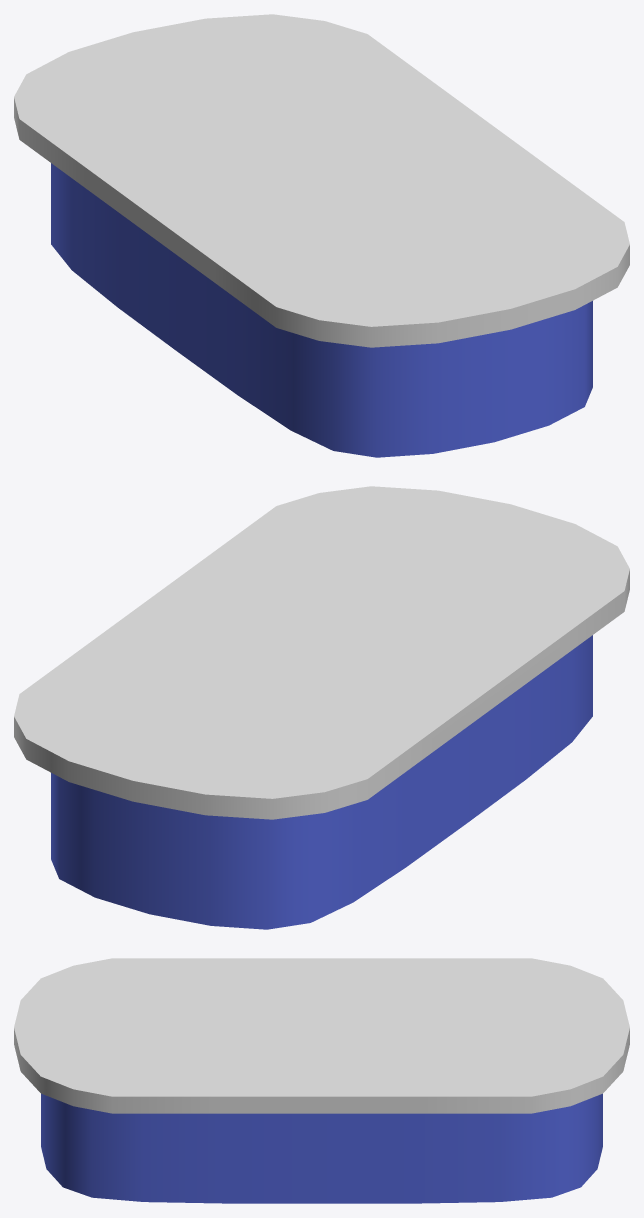
Rendered from model_tableLong_01.fbx.
3 views of the same model, one above another, from view 1: azimuth 30°, elevation 25°; view 2: azimuth 150°, elevation 25°; view 3: azimuth 270°, elevation 25° (orthographic). The views are drawn at different scales.
Visible parts, largest first — view 1: Cube.013; view 2: Cube.013; view 3: Cube.013.
Part boxes in pixels (bbox=[...]): Cube.013: bbox=[14, 14, 629, 457]; Cube.013: bbox=[14, 486, 629, 929]; Cube.013: bbox=[14, 958, 629, 1203].
Size of the model in its own units: 175 by 70 by 330.
